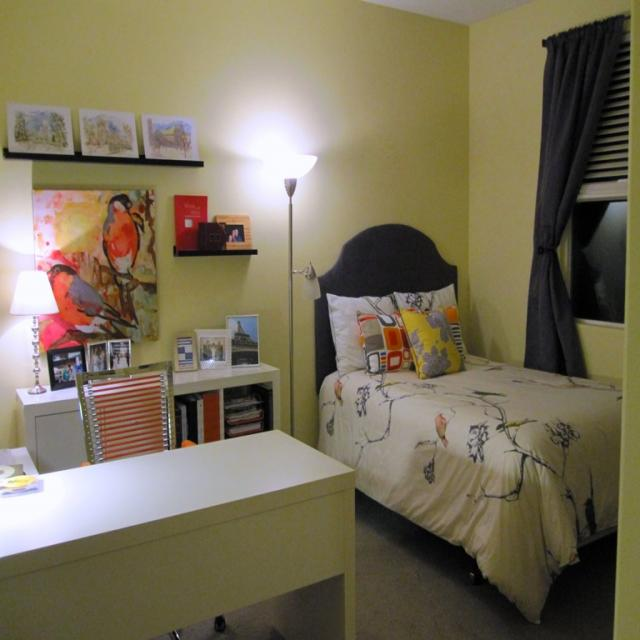chair: (74, 362, 176, 466)
desk: (0, 367, 373, 621)
